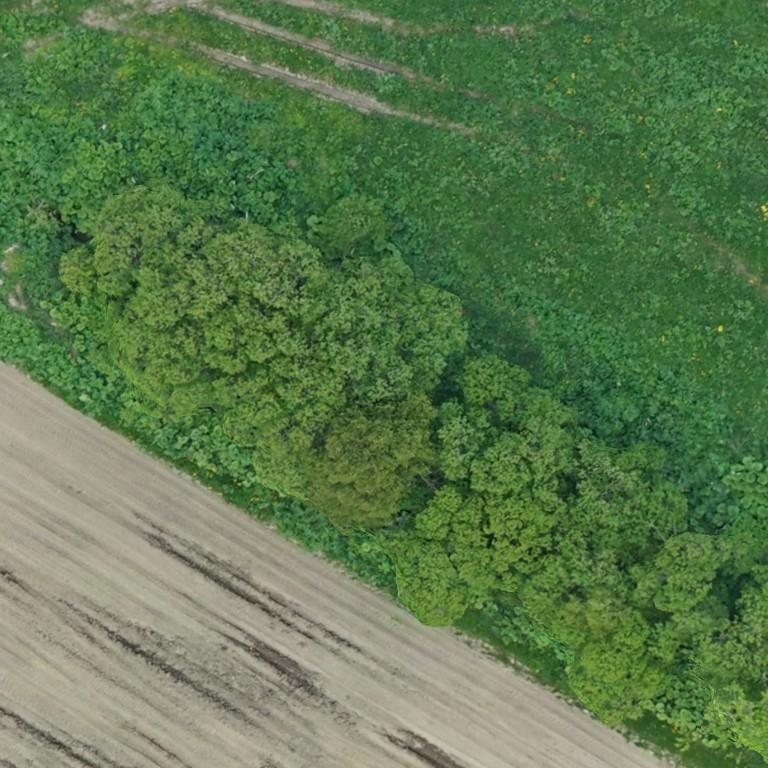hogweed: (548, 315, 730, 475), (0, 71, 91, 251), (135, 70, 272, 166), (271, 501, 373, 572)
